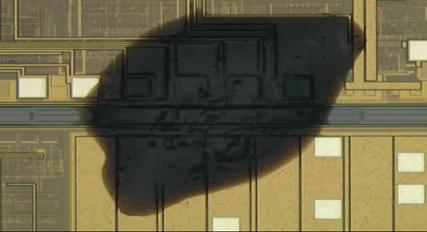PO CONTAMINATION: (76, 10, 371, 220)
